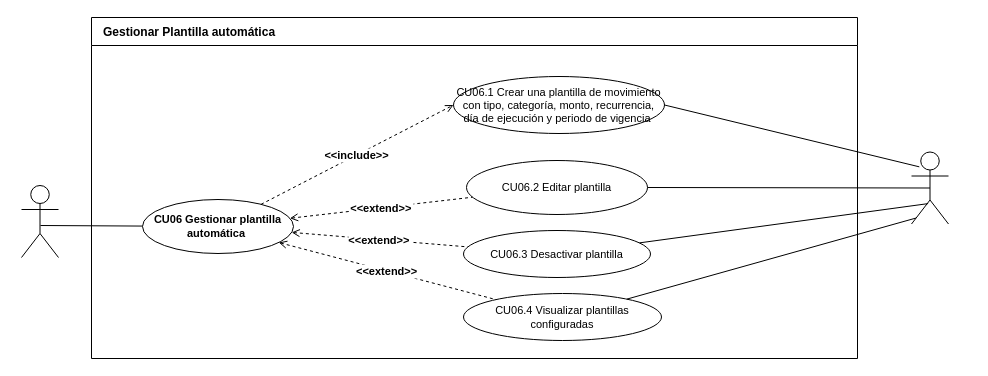
This 988x376 diagram has some shape labels left out. Here are the shapes that lost their labels. From the top down, the centre of each, then its label:
At (x=929, y=187): "Base de Datos".
At (x=39, y=221): "Usuario".
